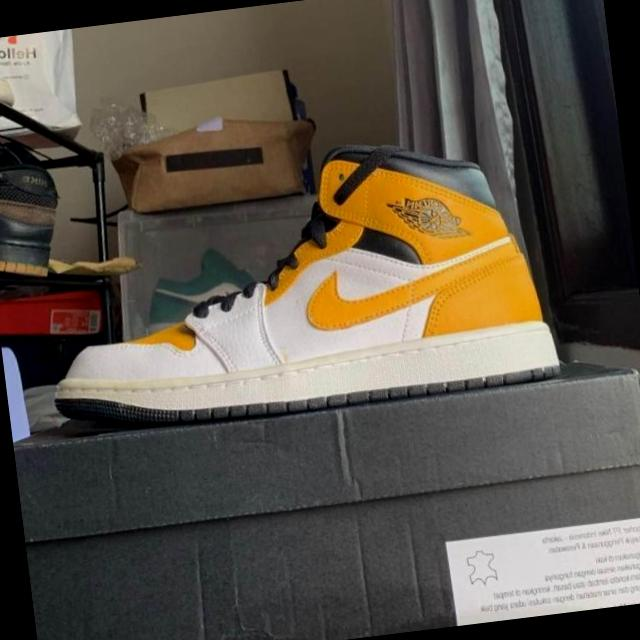nike_original_jordan: (24, 121, 564, 444)
